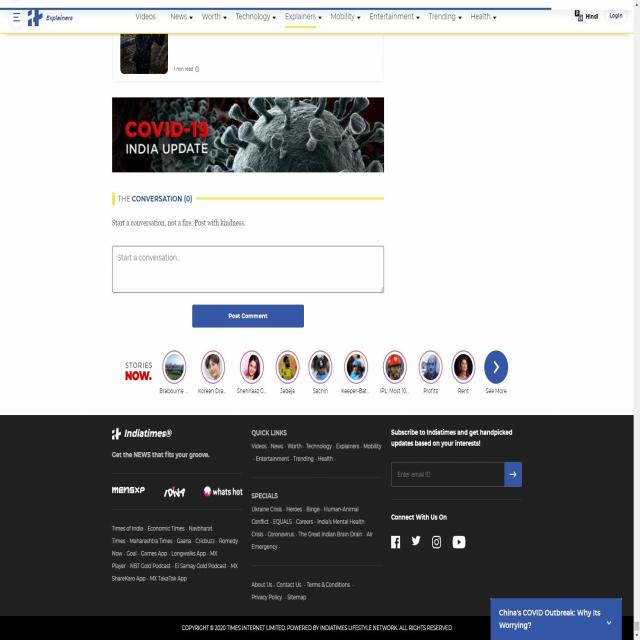button: (192, 304, 304, 328), (506, 462, 522, 487)
input: (112, 245, 384, 293), (392, 463, 504, 487)
select: (369, 10, 421, 22), (235, 10, 277, 23), (427, 10, 463, 22), (329, 10, 362, 23), (199, 10, 228, 23), (469, 10, 498, 22), (169, 10, 194, 23)
